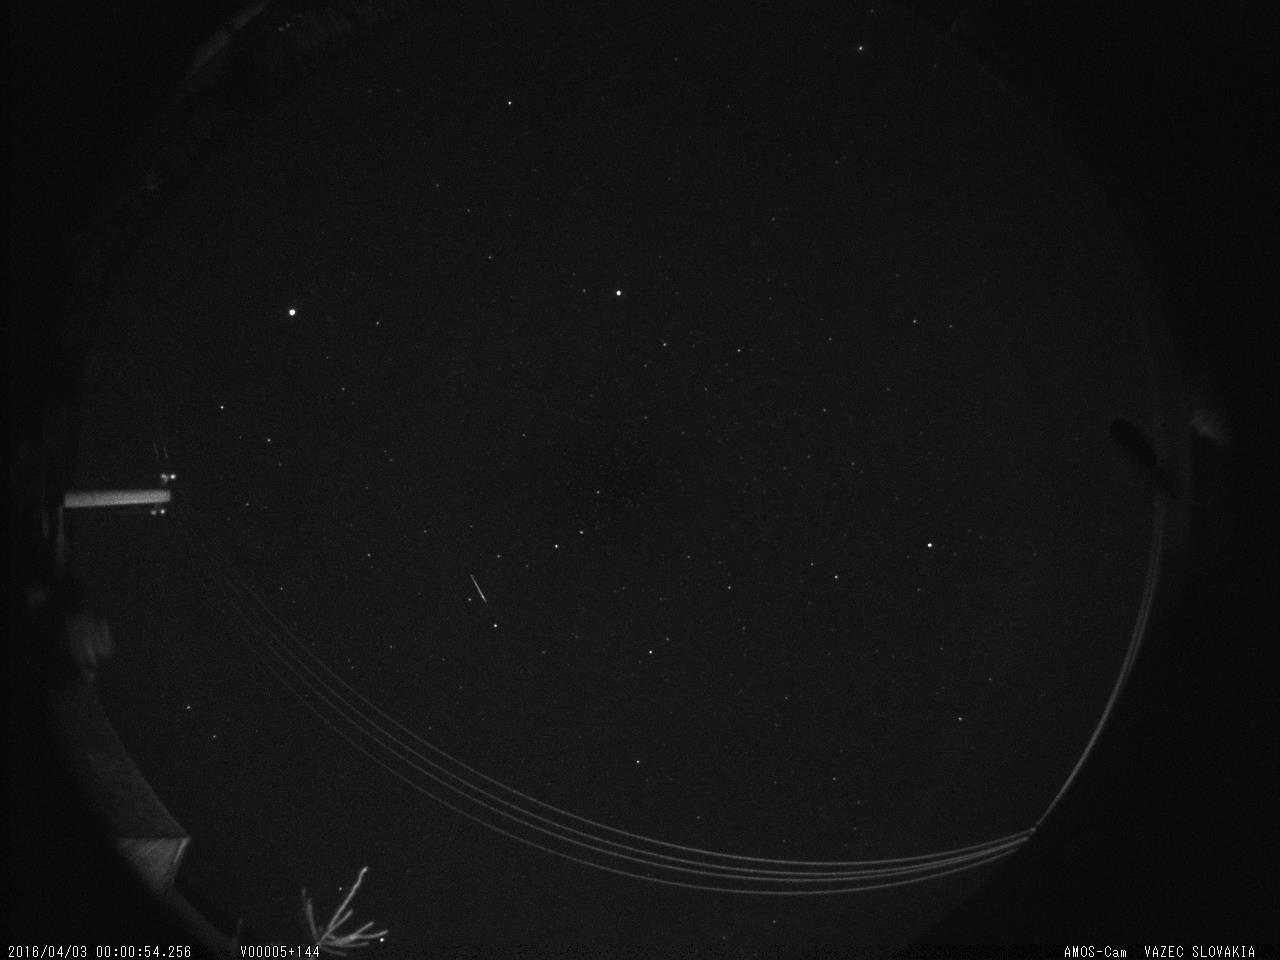meteor: (464, 570, 505, 611)
